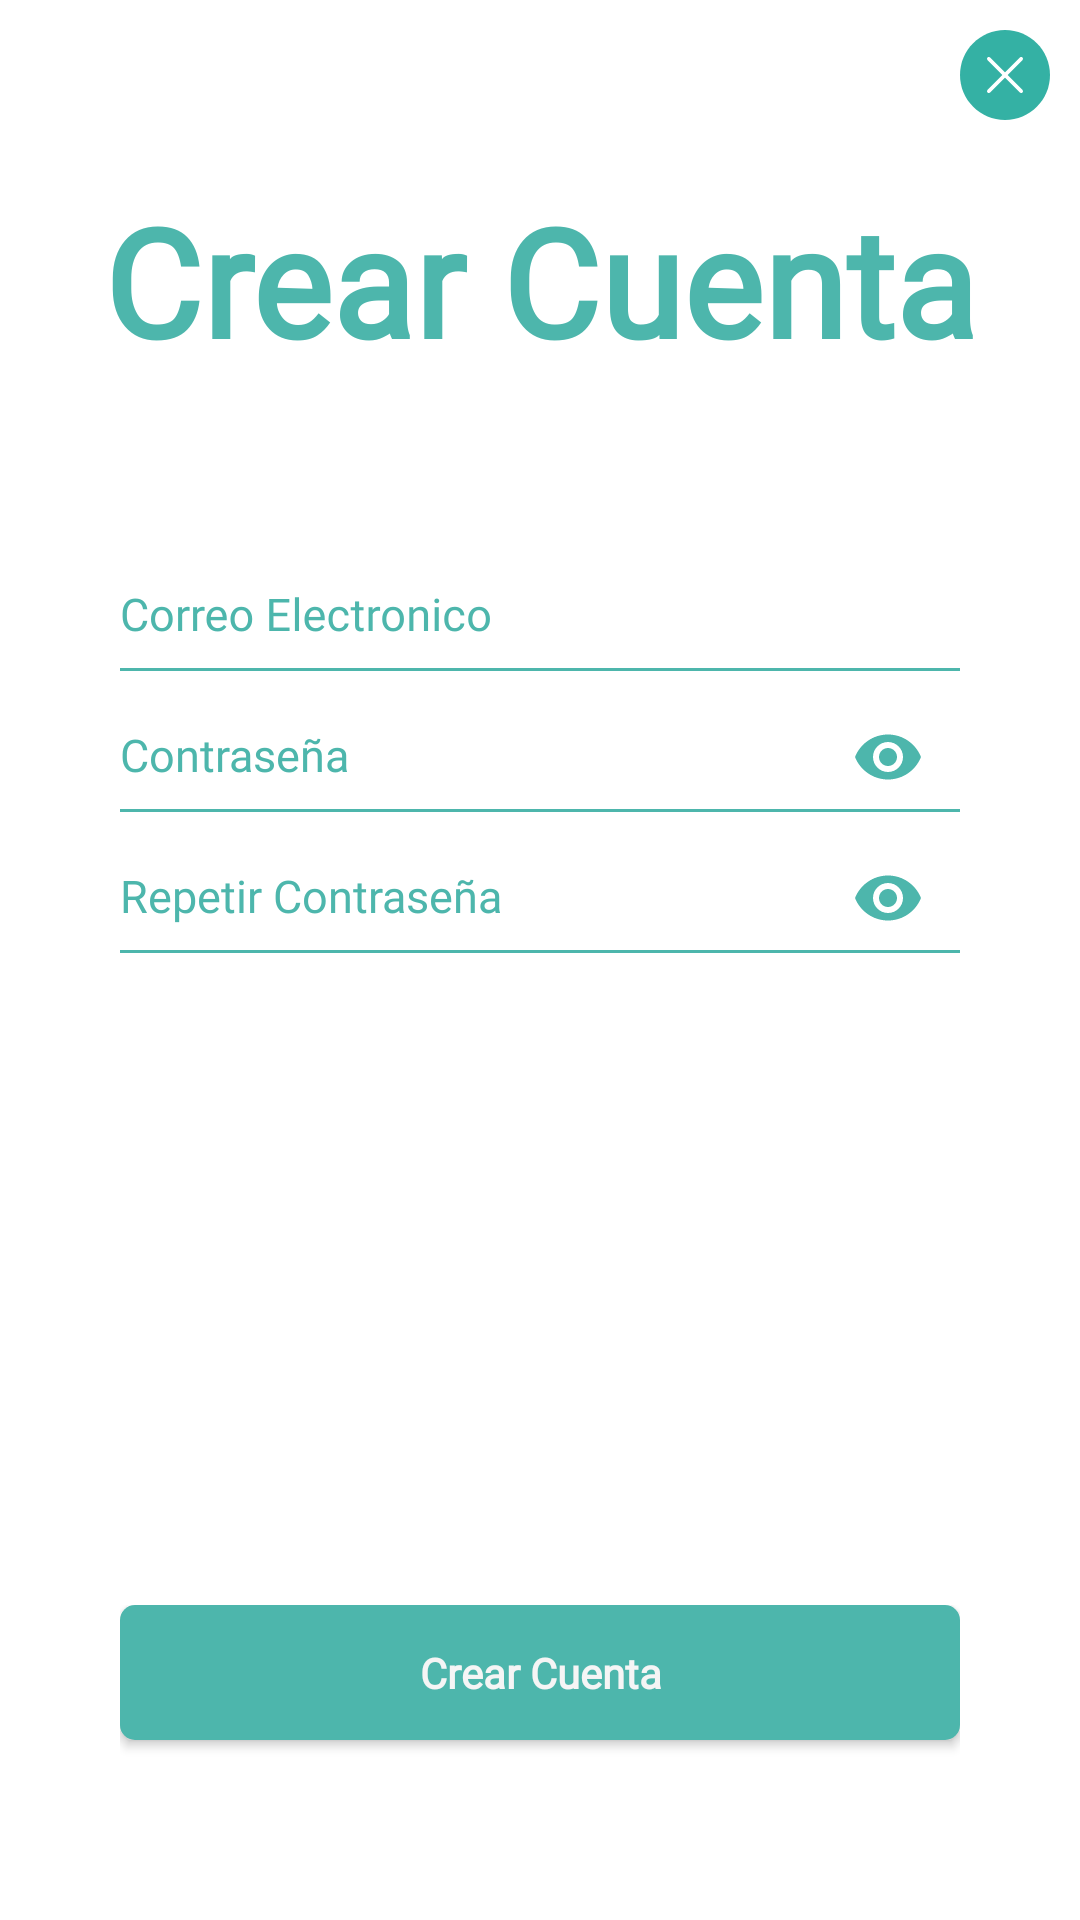

Icons on this 1080x1920 Android screen, each with the point to tap as [x,y]:
close: [1005,75]
